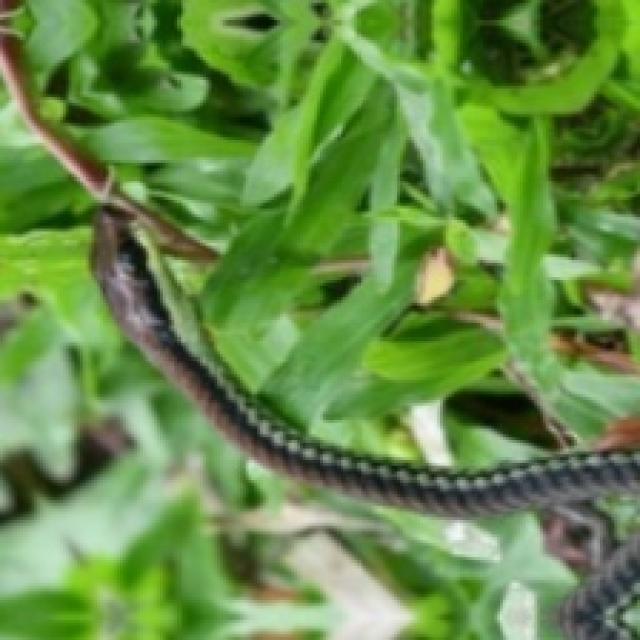philippine bronzeback treesnake: (94, 203, 637, 637)
